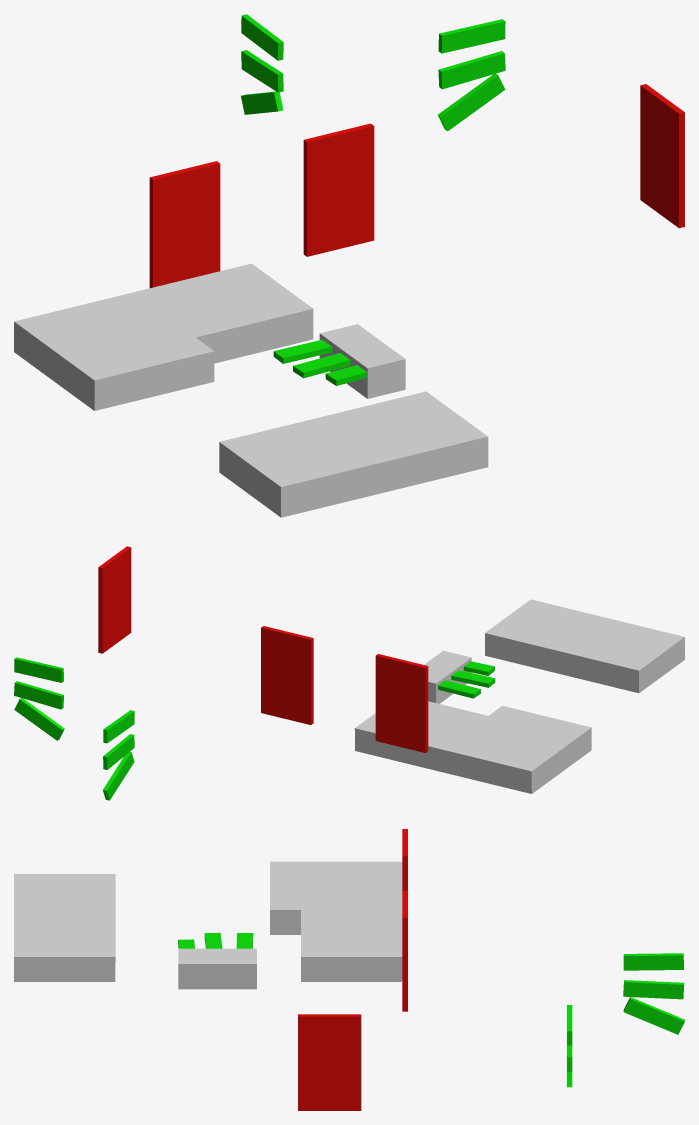
The model's file is Blocky_NorthRooms_Gameplay.fbx.
3 renders of one model, top to bottom at view 1: azimuth 30°, elevation 25°; view 2: azimuth 150°, elevation 25°; view 3: azimuth 270°, elevation 25°, orthographic. The views are drawn at different scales.
Parts seen in each view (by area): view 1: Essai_Assemblage_034.001, Essai_Assemblage_034.008, Essai_Assemblage_034.007, Cube.668, Cube.672, Cube.683, Essai_Assemblage_034.005, Essai_Assemblage_034.006, Cube.713, Cube.714, Cube.715, Cube.712 (+4 smaller); view 2: Essai_Assemblage_034.001, Essai_Assemblage_034.008, Cube.672, Cube.668, Essai_Assemblage_034.007, Cube.683, Essai_Assemblage_034.005, Essai_Assemblage_034.006, Cube.713, Cube.714, Cube.715, Cube.710 (+4 smaller); view 3: Essai_Assemblage_034.007, Essai_Assemblage_034.001, Cube.683, Essai_Assemblage_034.008, Essai_Assemblage_034.005, Essai_Assemblage_034.006, Cube.712, Cube.711, Cube.710, Cube.668.
Boxes of the visible parts, x1,y1,x2,y2 form: Essai_Assemblage_034.001: (14, 292, 214, 410); Essai_Assemblage_034.008: (219, 405, 430, 517); Essai_Assemblage_034.007: (134, 263, 313, 363); Cube.668: (303, 123, 374, 256); Cube.672: (149, 161, 220, 288); Cube.683: (640, 84, 684, 228); Essai_Assemblage_034.005: (369, 391, 488, 480); Essai_Assemblage_034.006: (319, 324, 405, 398); Cube.713: (438, 73, 505, 131); Cube.714: (438, 51, 505, 89); Cube.715: (438, 19, 505, 53); Cube.712: (241, 14, 283, 60); Essai_Assemblage_034.001: (442, 706, 591, 793); Essai_Assemblage_034.008: (527, 610, 684, 693); Cube.672: (375, 654, 428, 752); Cube.668: (261, 626, 313, 724); Essai_Assemblage_034.007: (354, 701, 487, 772); Cube.683: (98, 546, 131, 653); Essai_Assemblage_034.005: (485, 599, 573, 665); Essai_Assemblage_034.006: (424, 650, 471, 703); Cube.713: (14, 698, 64, 740); Cube.714: (14, 681, 63, 709); Cube.715: (14, 657, 63, 682); Cube.710: (103, 752, 134, 800); Essai_Assemblage_034.007: (301, 910, 402, 981); Essai_Assemblage_034.001: (270, 861, 402, 934); Cube.683: (298, 1014, 361, 1110); Essai_Assemblage_034.008: (14, 874, 115, 933); Essai_Assemblage_034.005: (14, 934, 115, 981); Essai_Assemblage_034.006: (178, 948, 256, 989); Cube.712: (623, 953, 683, 970); Cube.711: (623, 980, 684, 999); Cube.710: (623, 997, 684, 1034); Cube.668: (402, 890, 407, 1011).
Bounding box in the file's own units: 3179 × 692 × 3704.
